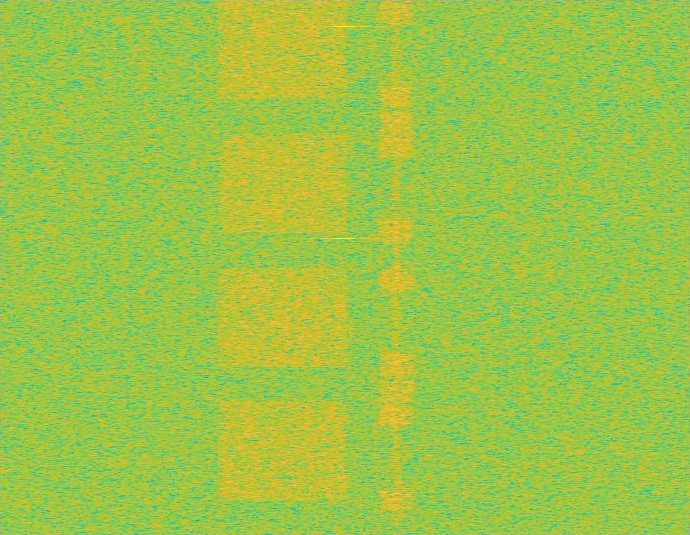5G: (214, 0, 352, 534)
DSSS: (393, 0, 400, 534)
LTE: (379, 0, 414, 534)
Radar: (338, 0, 352, 534)
